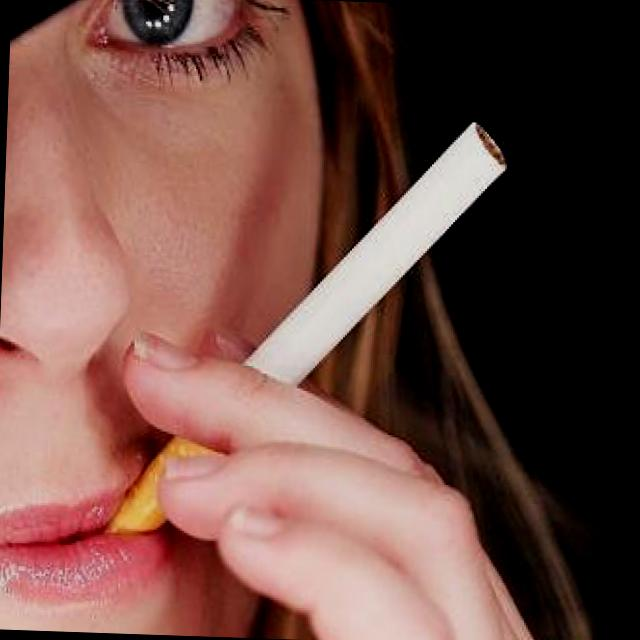cigarette: (120, 78, 514, 549)
